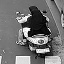mobil: (7, 1, 57, 62)
